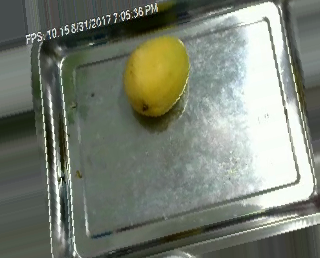Mango: (124, 34, 190, 117)
